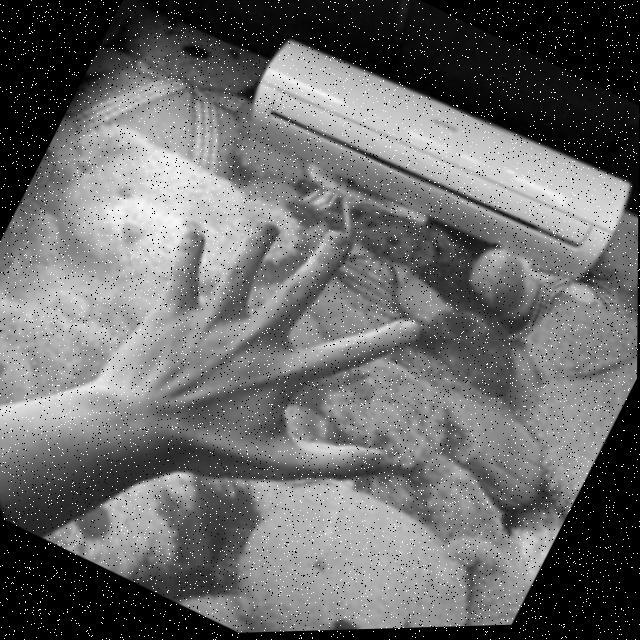no-gloves: (79, 162, 478, 566)
